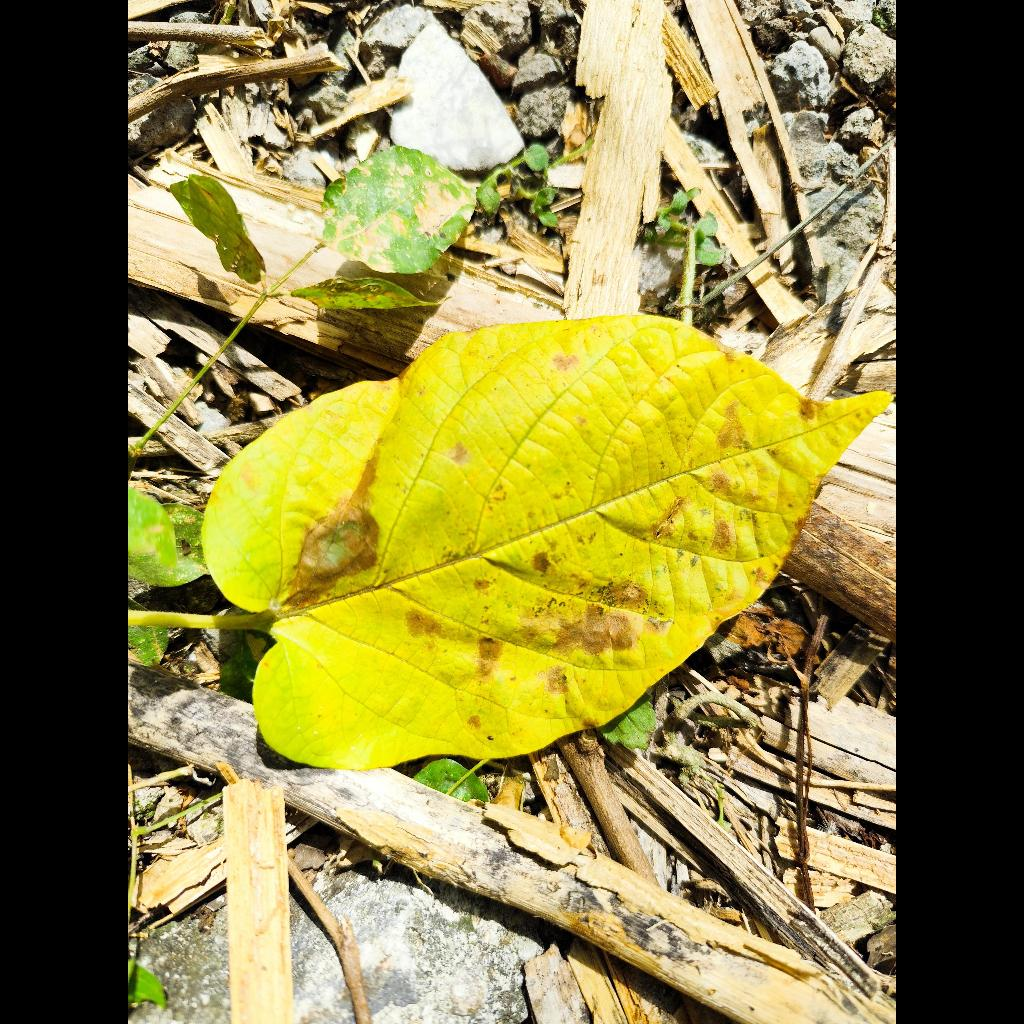deficiencia_nutricional: (205, 316, 888, 769)
